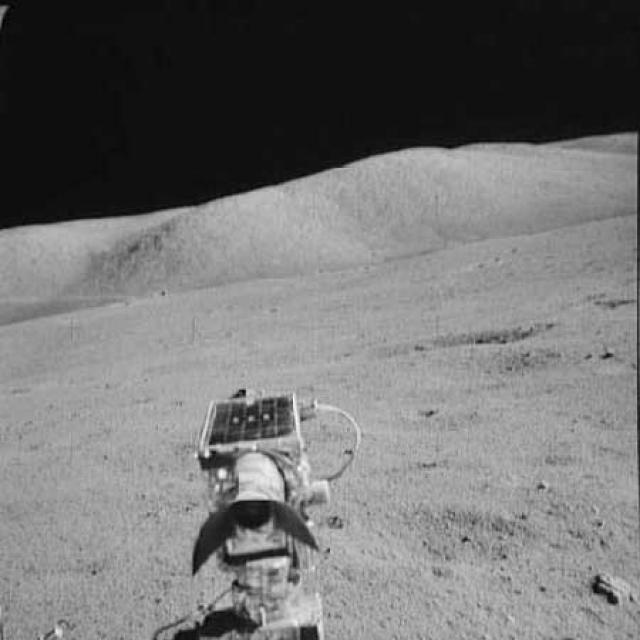artifact: (156, 376, 378, 640)
crater: (368, 325, 559, 354), (581, 295, 639, 316)
rock: (585, 568, 635, 615)
